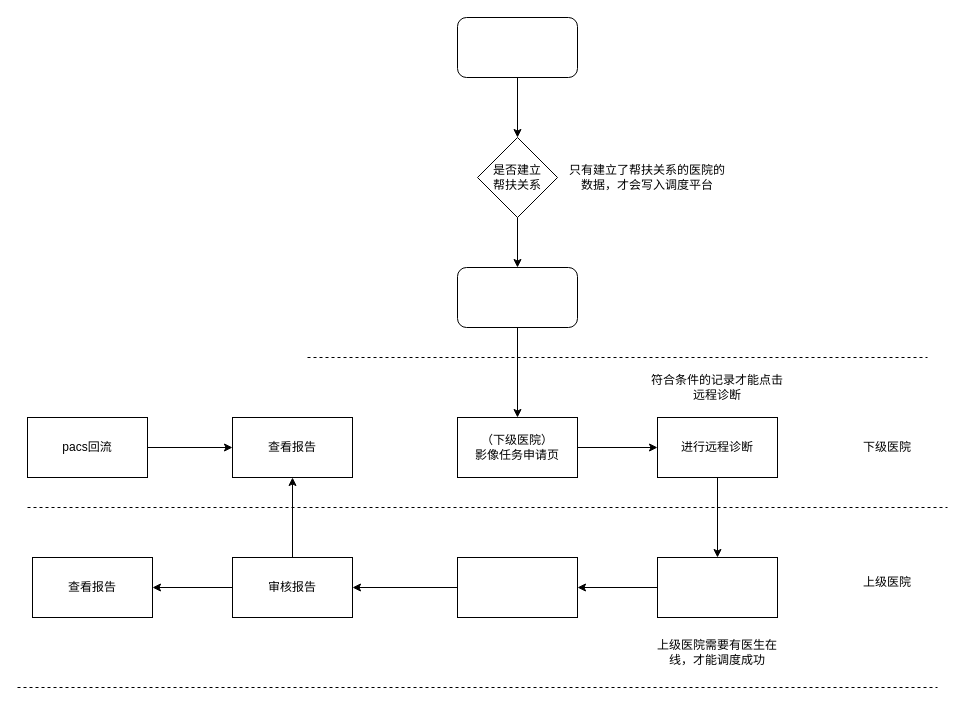
Some shapes in this 966 by 706 pixel diagram are drawn without their labels. Here are the shapes that lost their labels. From the top down, the centre of each, then its label:
At (x=517, y=47): "Kafka".
At (x=517, y=297): "MySQL".
At (x=517, y=587): "编写报告".
At (x=717, y=587): "调度任务".
